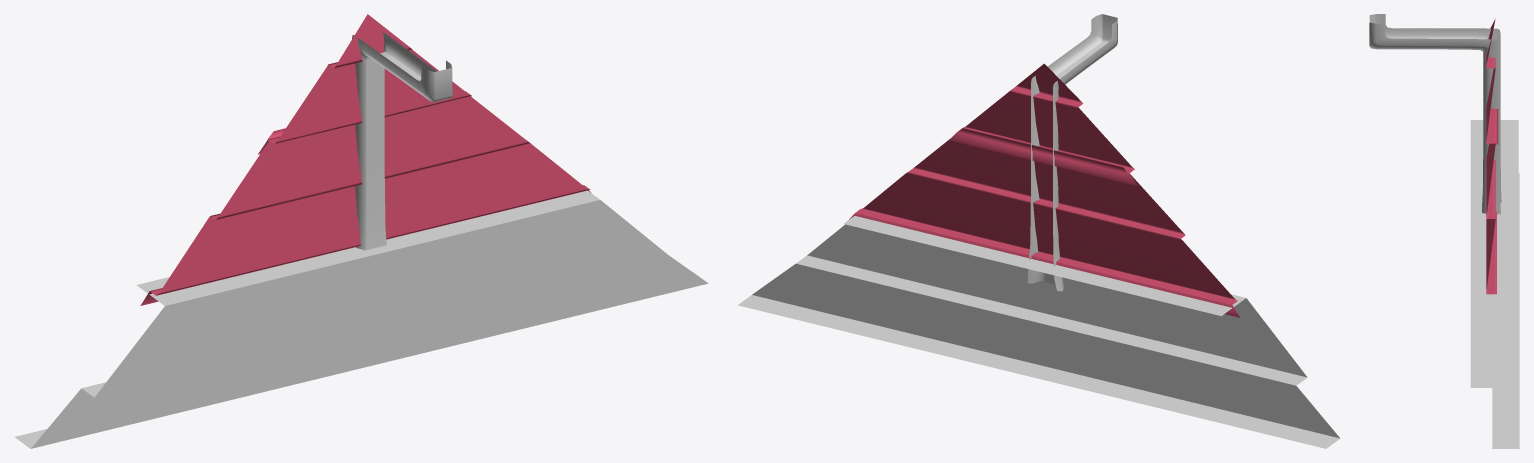
Rendered from RoofVent1.fbx.
3 views of the same model, side by side, from view 1: azimuth 30°, elevation 25°; view 2: azimuth 150°, elevation 25°; view 3: azimuth 270°, elevation 25° (orthographic). The views are drawn at different scales.
Visible parts, largest first — view 1: RoofVent_LOD0; view 2: RoofVent_LOD0; view 3: RoofVent_LOD0.
Boxes of the visible parts, x1,y1,x2,y2 form: RoofVent_LOD0: (15,14,708,448); RoofVent_LOD0: (738,14,1340,448); RoofVent_LOD0: (1369,14,1519,448).
Size of what is drawn, in the model's own units: 258 by 127 by 59.39.
